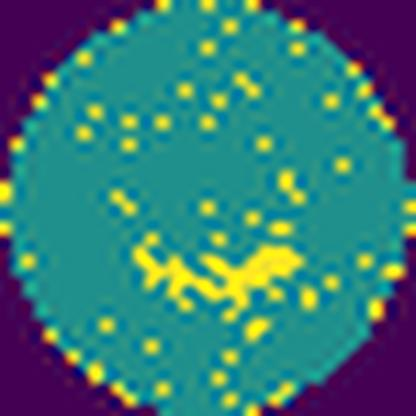Loc: (134, 232, 304, 325)
